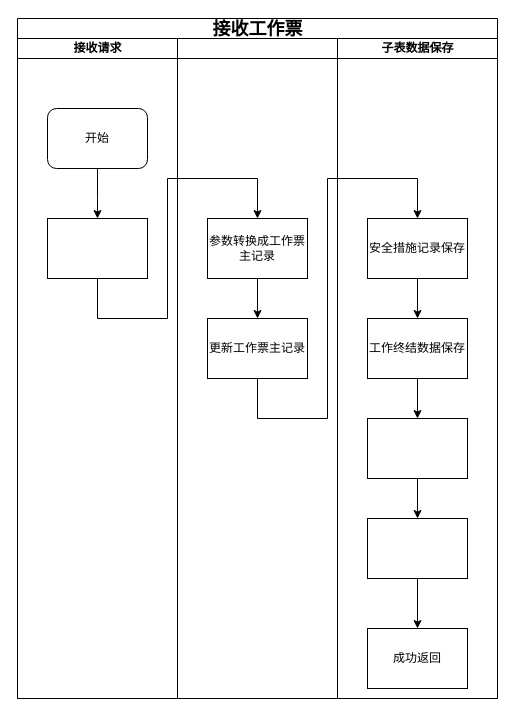
The diagram is 515 pixels wide and 716 high, and some of its shapes have lost their labels. The box of each missing label's shape, as (x1, y1, x2, y2) in pixels:
工作票更新: (176, 38, 338, 698)
工作许可数据保存: (366, 418, 468, 478)
请求参数转换成工作票变更入参对象: (46, 218, 148, 278)
配电安全措施数据保存: (366, 518, 468, 578)
